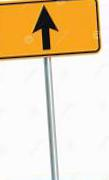forward: (30, 1, 60, 52)
